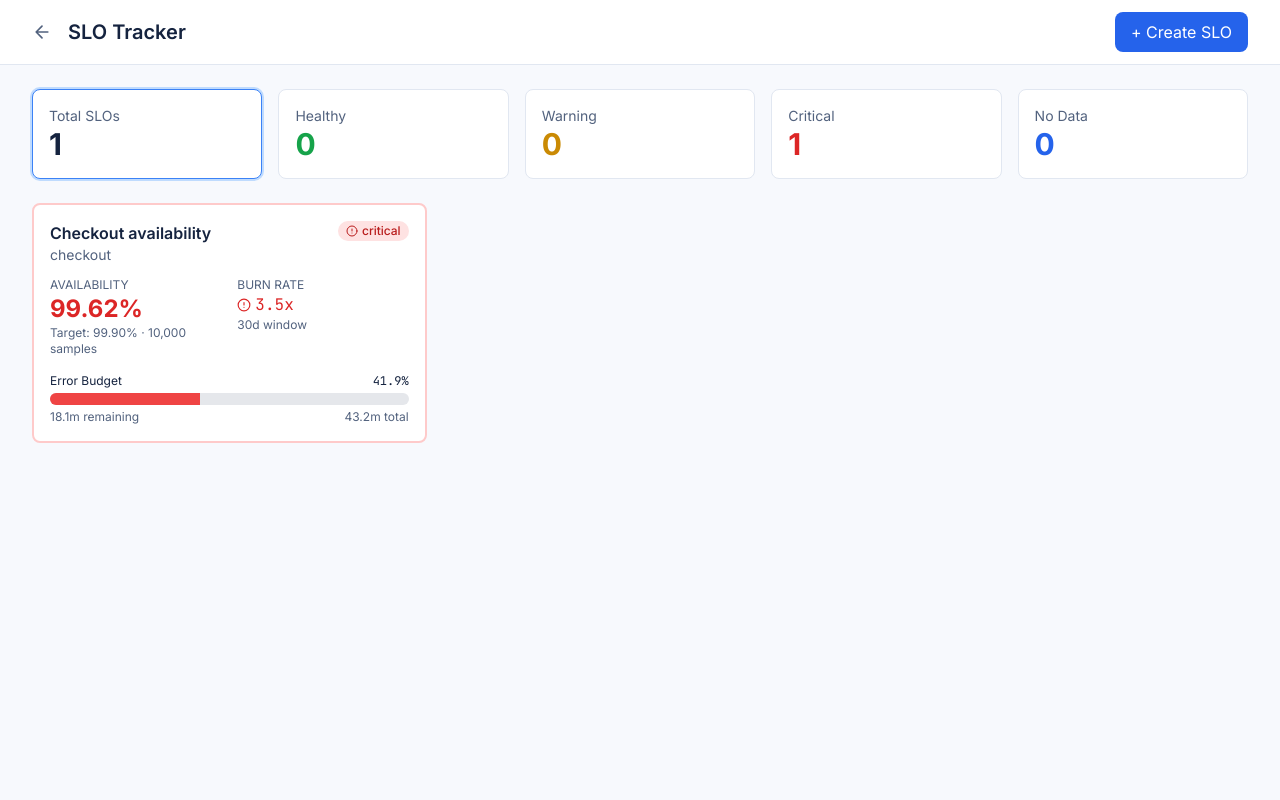
Test case: SLO detail panel actions › reports a failure to load metrics instead of staying silent
Click the heading "Checkout availability": coordinates (131, 233) [50, 221, 211, 245]
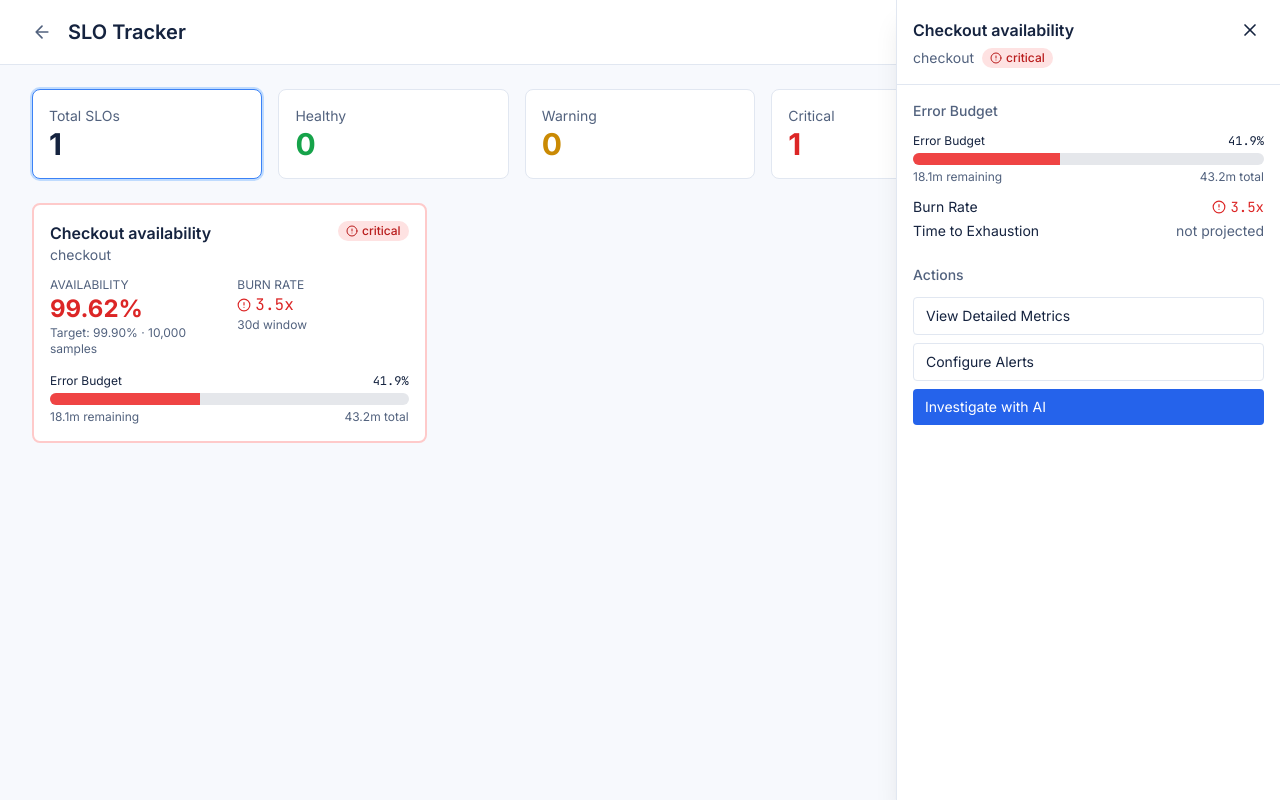
Click the button "View Detailed Metrics": coordinates (998, 316) [913, 297, 1264, 335]
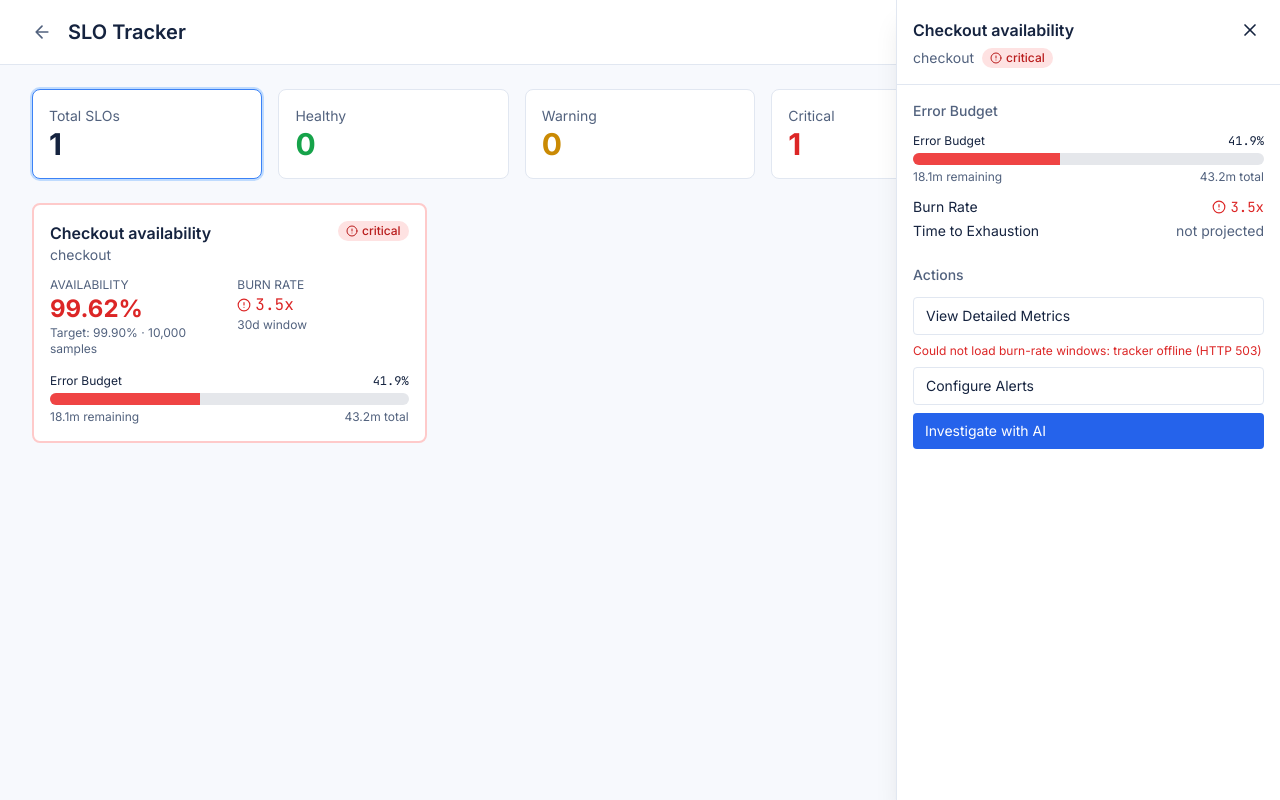
Result: the message shows "tracker offline" at [1113, 343, 1262, 358]
